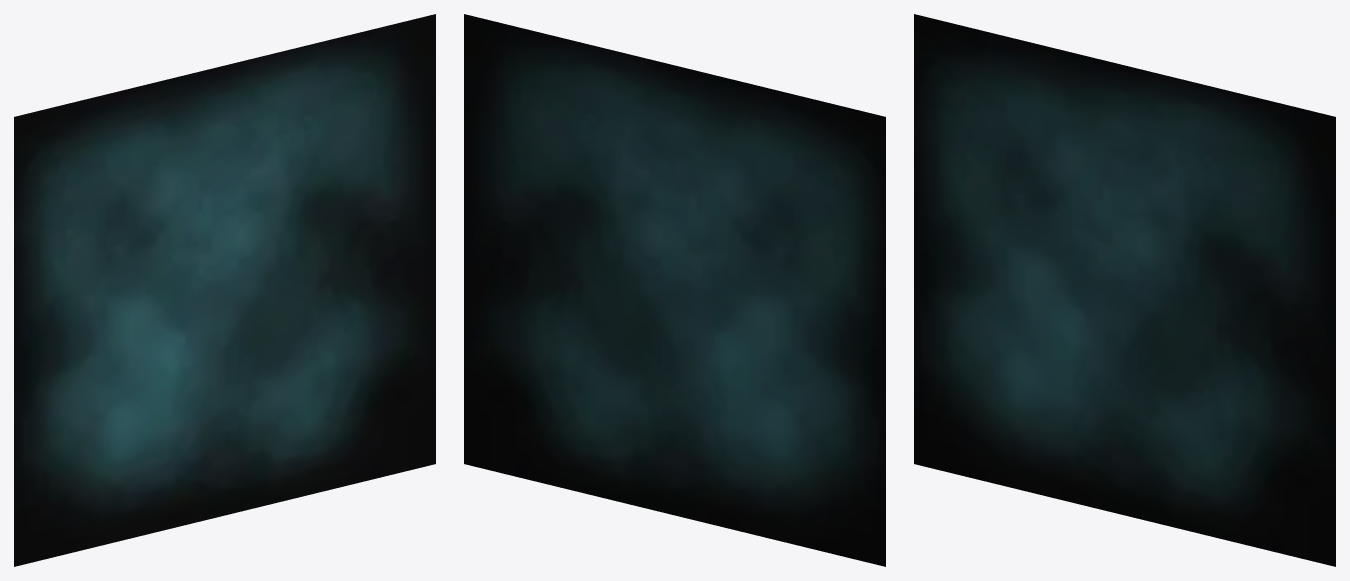
3 renders of one model, left to right at view 1: azimuth 30°, elevation 25°; view 2: azimuth 150°, elevation 25°; view 3: azimuth 330°, elevation 25°, orthographic.
Parts seen in each view (by area): view 1: model_Object07; view 2: model_Object07; view 3: model_Object07.
Boxes of the visible parts, x1,y1,x2,y2 form: model_Object07: (14, 14, 435, 566); model_Object07: (464, 14, 885, 566); model_Object07: (914, 14, 1335, 566).
Bounding box in the file's own units: 4.28 × 4.36 × 0.
1 material, 1 textured.
